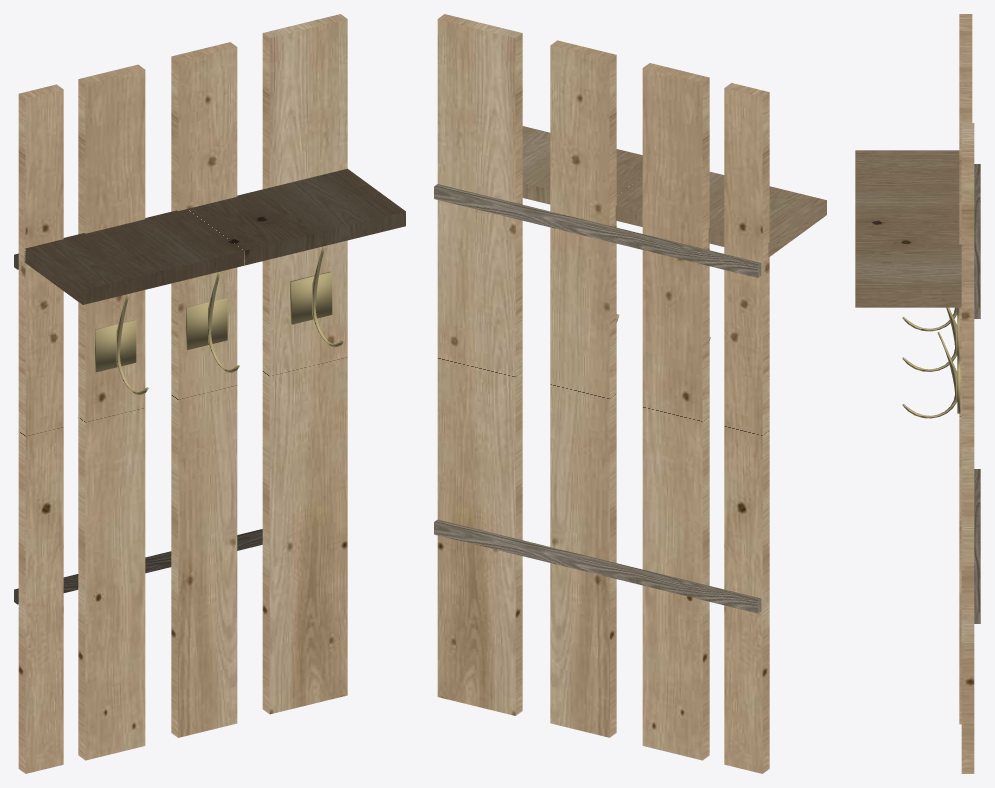
File: hanger.glb
3 views of the same model, side by side, from view 1: azimuth 30°, elevation 25°; view 2: azimuth 150°, elevation 25°; view 3: azimuth 270°, elevation 25° (orthographic). The views are drawn at different scales.
Visible parts, largest first — view 1: Object_3, Object_4, Object_2; view 2: Object_3, Object_2; view 3: Object_3, Object_2, Object_4.
Boxes of the visible parts, bbox=[...] form: Object_3: bbox=[18, 14, 405, 773]; Object_4: bbox=[95, 246, 344, 394]; Object_2: bbox=[14, 253, 262, 604]; Object_3: bbox=[437, 14, 826, 773]; Object_2: bbox=[434, 184, 761, 613]; Object_3: bbox=[855, 14, 974, 773]; Object_2: bbox=[974, 164, 980, 623]; Object_4: bbox=[902, 307, 960, 418].
Size of the model in its own units: 800 by 1600 by 295.
Materials: 3 (2 with a texture image).
